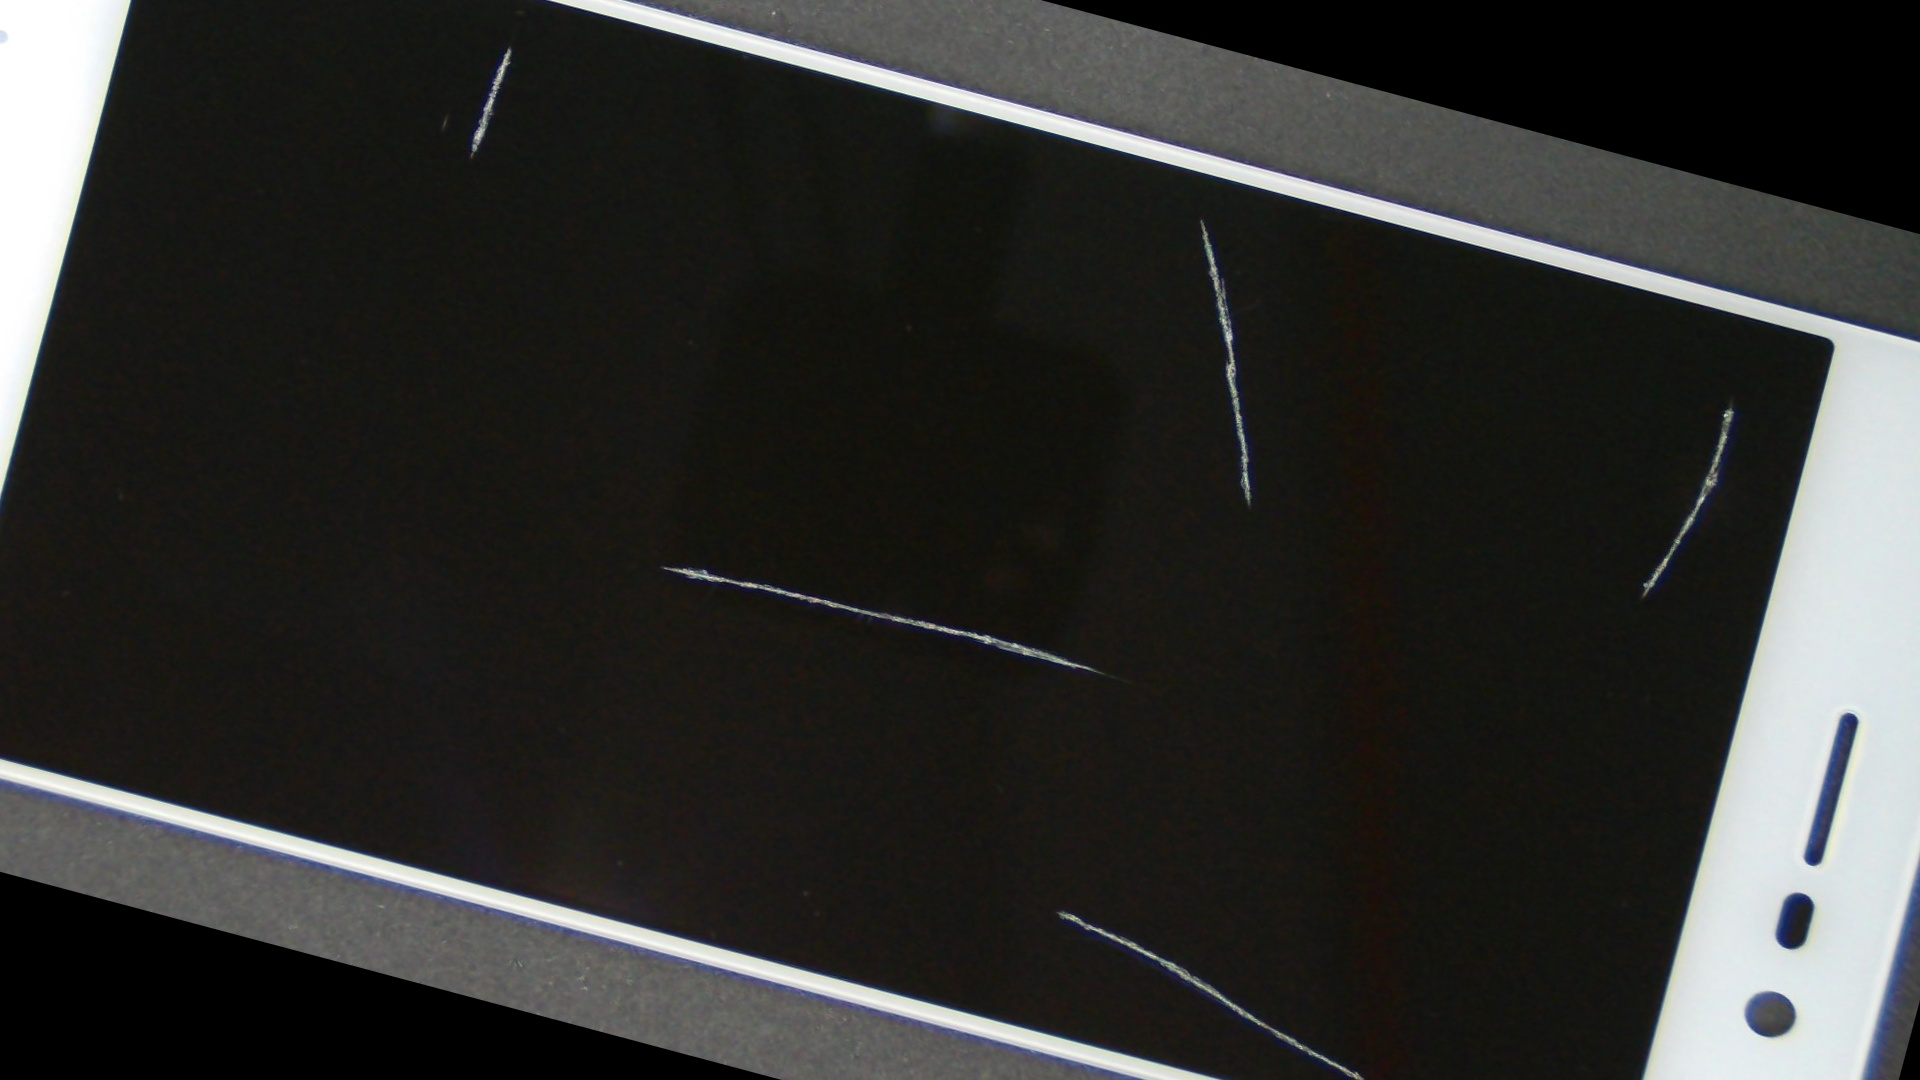oil: (303, 170, 1664, 1080), (332, 309, 1849, 1080), (530, 0, 1873, 475), (785, 53, 1920, 587), (0, 211, 211, 885), (182, 0, 837, 215)
